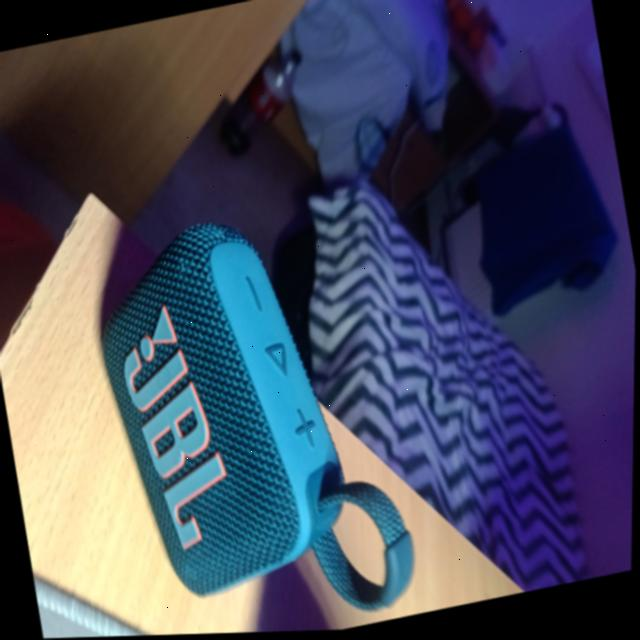column JBL: (74, 182, 427, 638)
